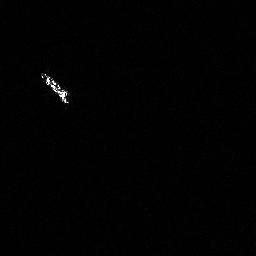ship: (37, 70, 72, 106)
